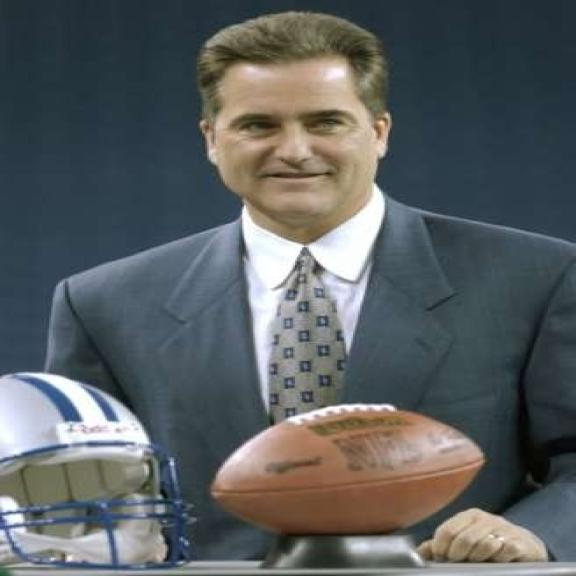face: (187, 39, 400, 226)
